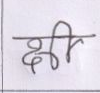i_matra: (56, 19, 77, 62)
